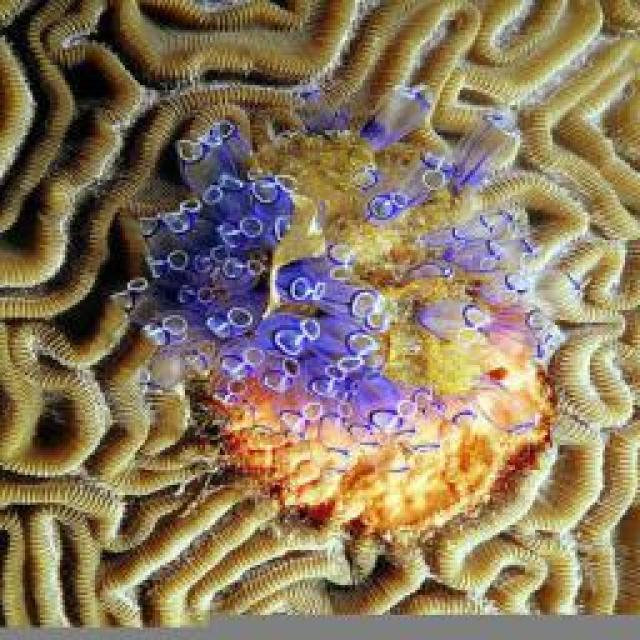reefs: (0, 0, 638, 627), (110, 82, 570, 545), (110, 83, 569, 546)
